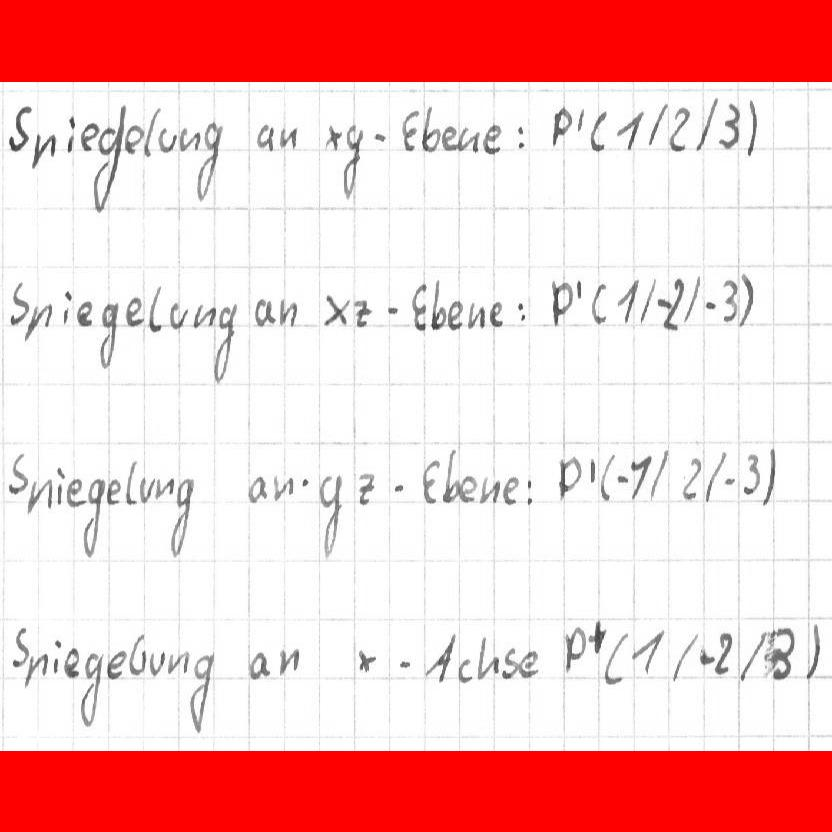Char: (92, 126, 123, 212), (195, 119, 223, 206), (187, 649, 215, 733), (168, 473, 194, 558), (211, 305, 238, 381), (79, 650, 104, 727), (318, 474, 341, 557), (737, 628, 769, 687), (95, 300, 119, 370), (658, 273, 687, 330), (83, 475, 102, 561), (693, 95, 720, 155), (425, 632, 454, 684), (632, 629, 663, 676), (549, 274, 575, 330), (342, 128, 363, 197), (603, 632, 628, 686), (772, 625, 795, 682), (23, 302, 52, 345), (6, 106, 31, 154), (704, 451, 727, 503), (616, 109, 643, 152), (646, 449, 669, 499), (803, 623, 822, 683), (616, 277, 640, 324), (670, 633, 693, 682), (718, 101, 741, 150), (562, 625, 585, 673), (557, 455, 581, 501), (629, 455, 653, 501), (8, 280, 30, 330), (680, 455, 703, 502), (440, 448, 459, 503), (645, 103, 668, 148), (668, 105, 690, 152), (762, 445, 778, 506), (477, 635, 498, 681), (323, 293, 350, 328), (588, 279, 609, 324), (31, 131, 54, 172), (6, 450, 27, 494), (719, 276, 738, 324), (744, 93, 758, 158), (550, 104, 572, 145), (420, 457, 439, 504), (683, 273, 701, 322), (27, 480, 52, 515), (23, 652, 48, 687), (410, 284, 428, 332), (638, 276, 656, 324), (588, 109, 608, 152), (128, 631, 147, 676), (147, 284, 164, 334), (714, 633, 734, 675), (421, 102, 438, 151), (739, 274, 755, 326), (429, 279, 445, 331), (9, 626, 27, 672), (741, 451, 758, 499), (598, 451, 614, 502), (400, 108, 418, 153), (276, 646, 302, 677), (143, 108, 159, 156), (480, 473, 502, 505), (482, 122, 503, 155), (247, 472, 269, 503), (356, 471, 376, 504), (166, 649, 190, 676), (247, 651, 270, 679), (178, 125, 200, 154), (254, 297, 275, 327), (465, 300, 486, 330), (277, 298, 298, 328), (588, 619, 606, 654), (106, 648, 126, 679), (125, 296, 144, 328), (125, 461, 139, 504), (353, 298, 373, 328), (122, 123, 142, 153), (66, 478, 86, 508), (63, 645, 80, 680), (157, 125, 177, 154), (273, 475, 295, 501), (194, 301, 215, 328), (446, 298, 463, 331), (80, 120, 97, 153), (503, 474, 520, 507), (459, 125, 479, 153), (519, 650, 539, 678), (276, 124, 296, 152), (354, 649, 377, 673), (256, 121, 275, 150), (169, 303, 189, 330), (155, 475, 174, 501), (459, 473, 476, 502), (75, 300, 93, 327), (65, 115, 77, 155), (502, 646, 517, 678), (325, 122, 342, 150), (489, 298, 505, 327), (456, 658, 475, 682), (441, 123, 457, 151), (150, 650, 166, 678), (55, 465, 65, 509), (106, 479, 122, 505), (139, 476, 155, 502), (61, 289, 72, 326), (572, 107, 585, 138), (52, 638, 62, 676), (395, 656, 417, 672), (514, 122, 526, 151), (516, 298, 528, 325), (371, 129, 388, 148), (698, 649, 714, 669), (524, 477, 535, 506), (383, 301, 400, 318), (390, 480, 405, 497), (298, 475, 311, 493), (588, 457, 596, 485), (704, 299, 719, 311), (575, 278, 583, 299), (617, 473, 629, 485), (723, 476, 736, 485)
